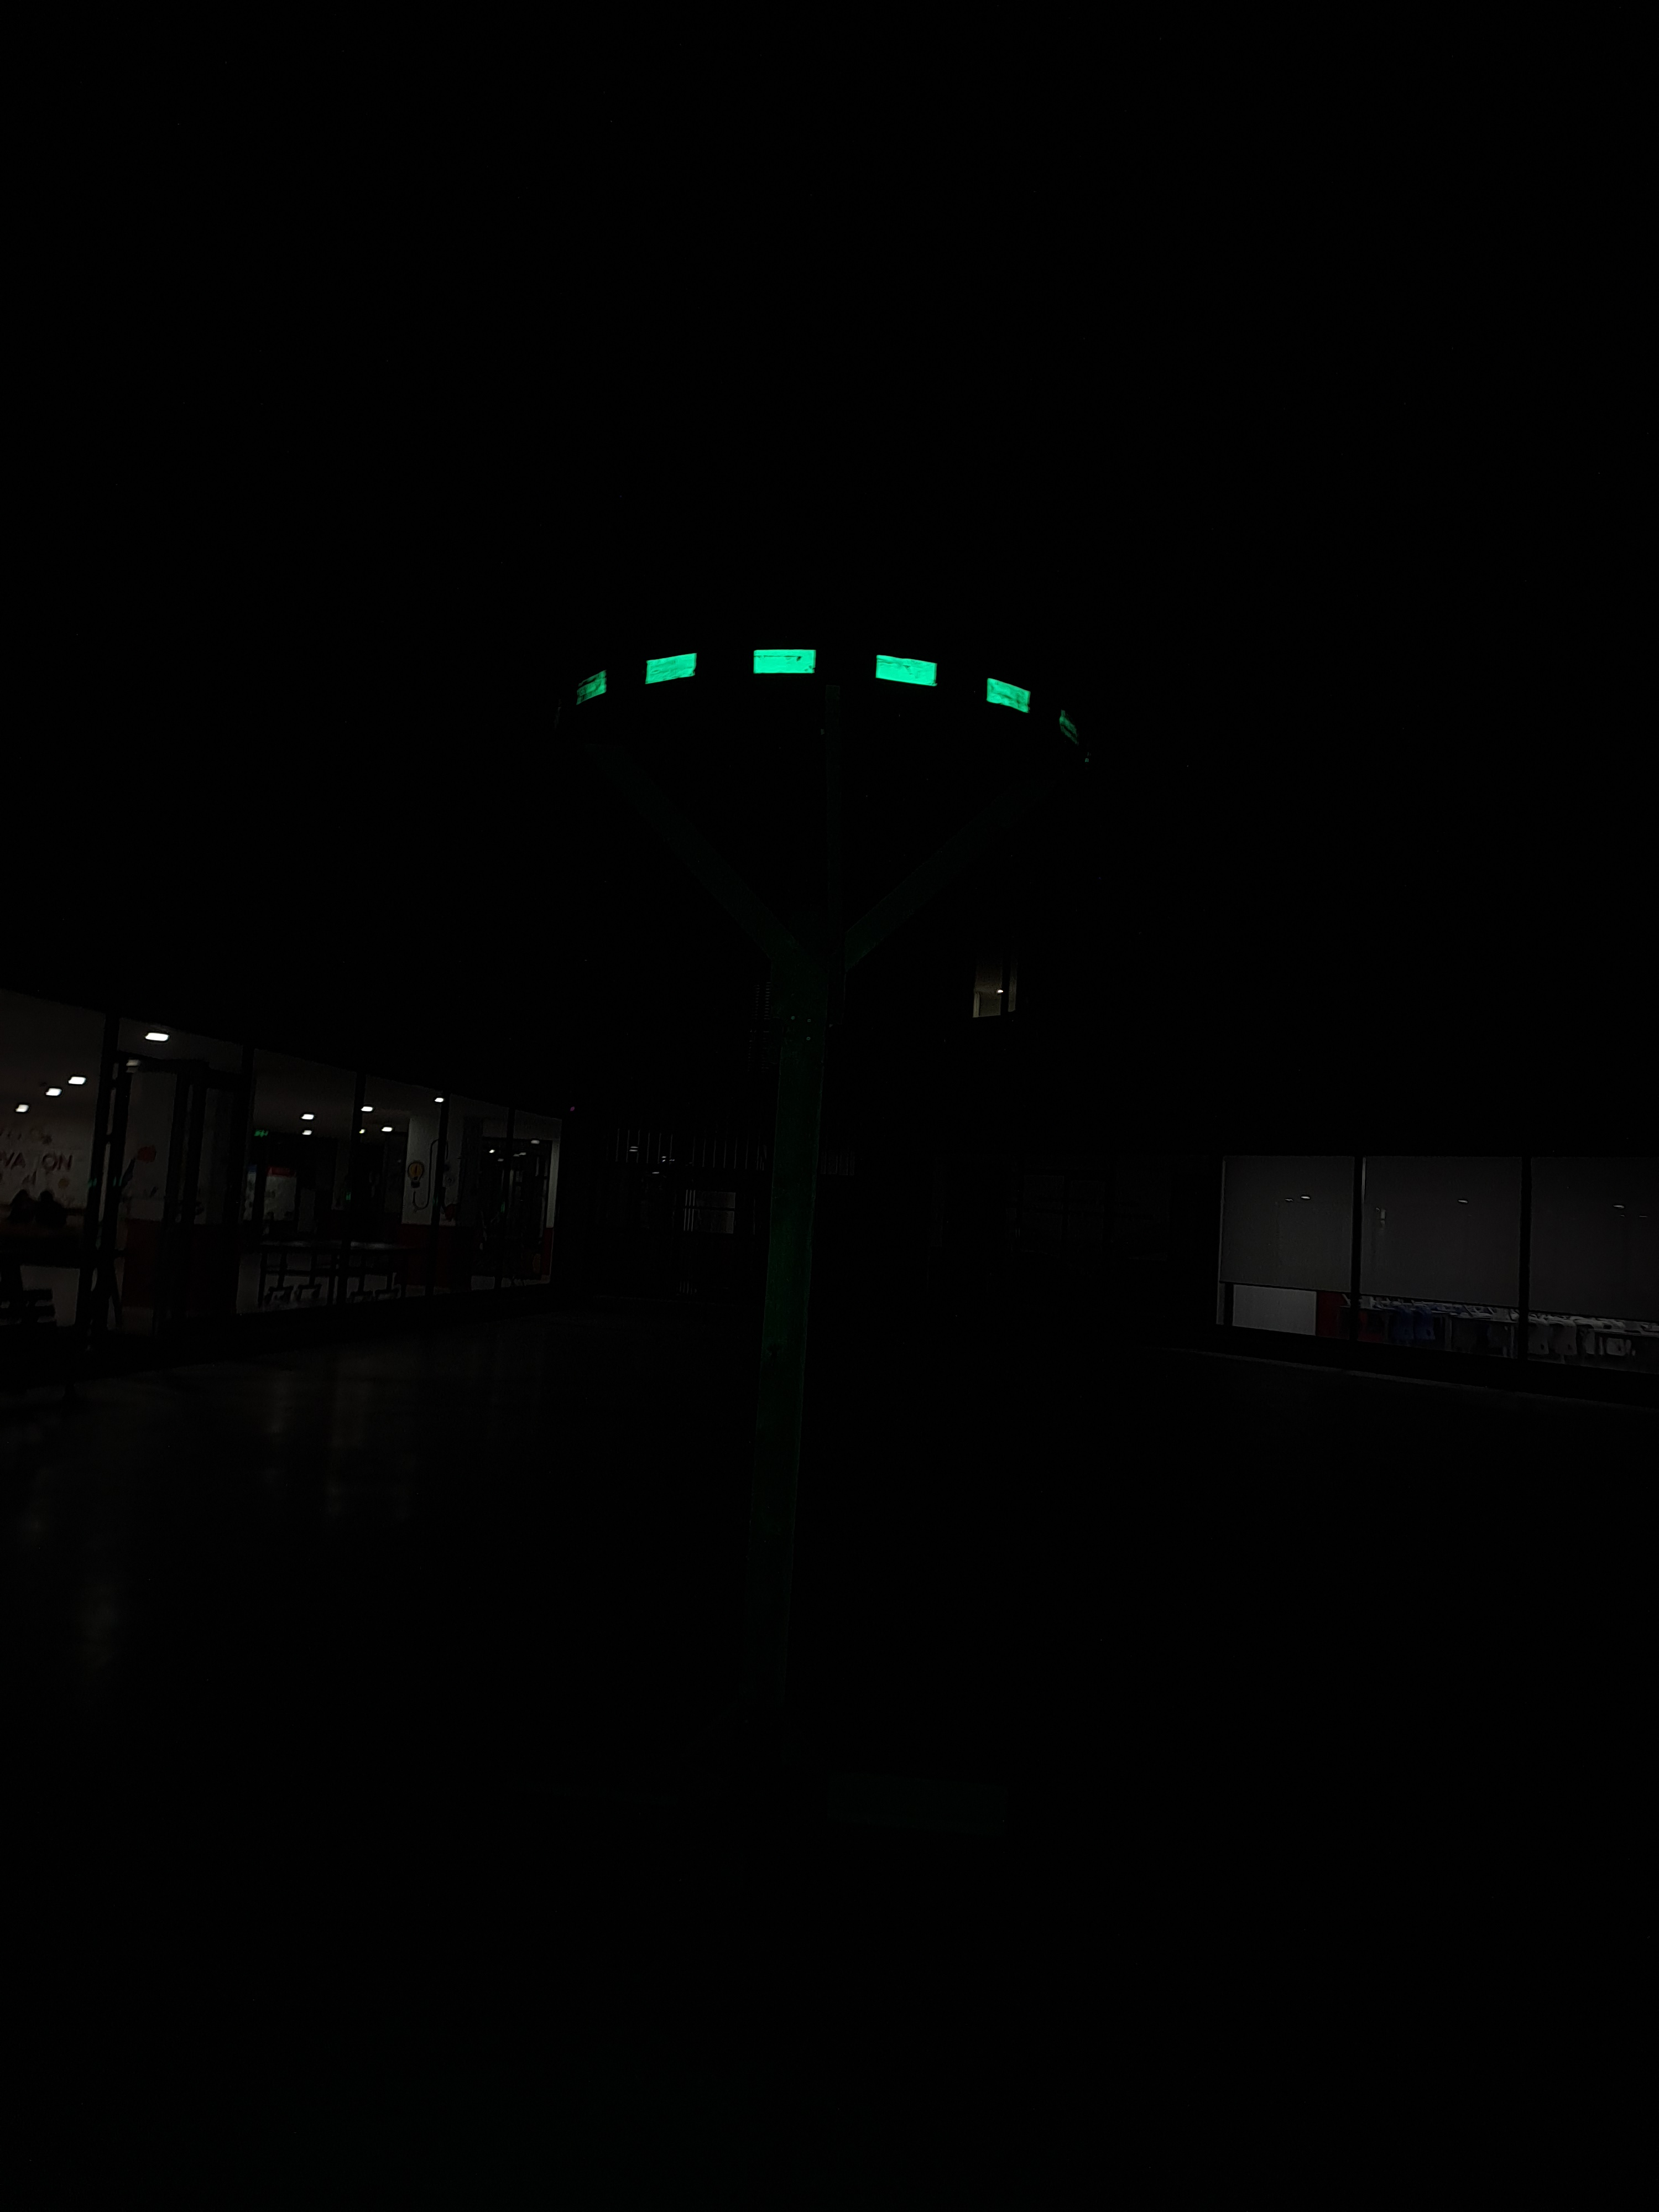hoop: (577, 624, 1033, 732)
